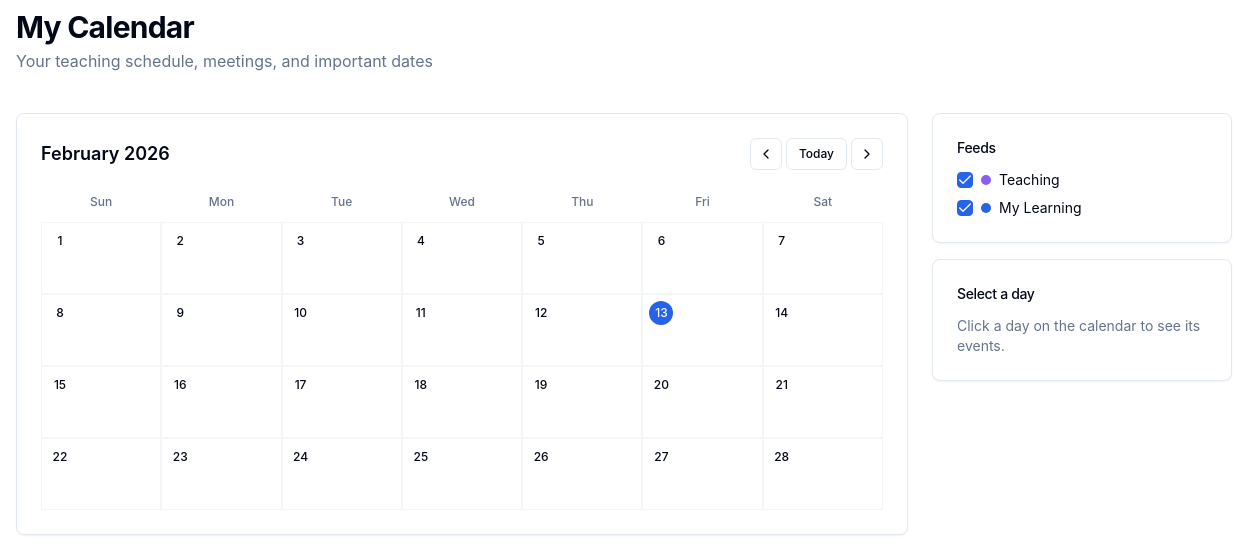
StaffCalendarPage › Event Display › should show "No events on this day" for days without events
The image size is (1249, 552).
Click the button "15": (101, 402) [41,366,161,438]
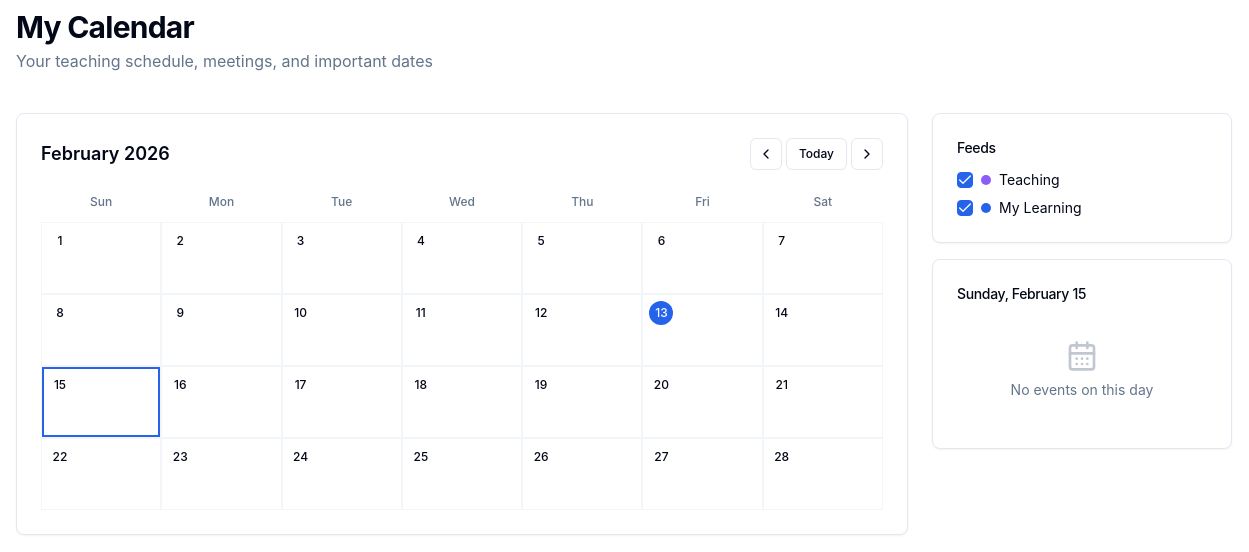
Expected: the text "No events on this day" is shown, [1011,380,1153,400]
